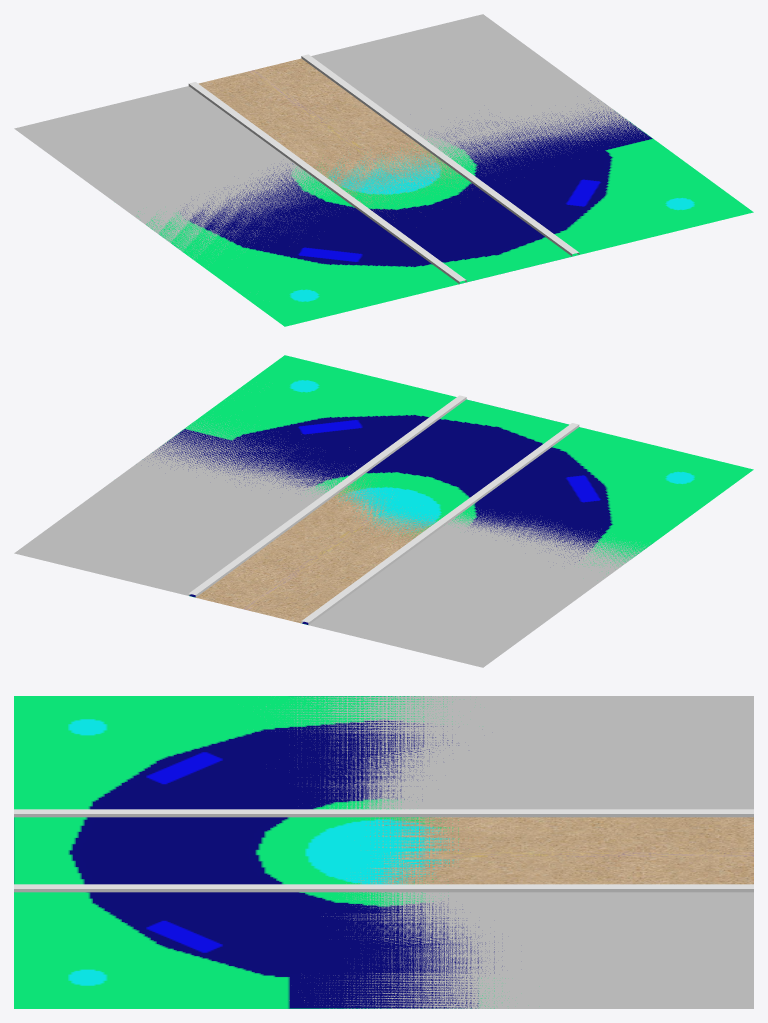
The model's file is Park_Straight_01.fbx.
The picture shows the model from 3 angles, top to bottom: view 1: azimuth 30°, elevation 25°; view 2: azimuth 150°, elevation 25°; view 3: azimuth 270°, elevation 25°; orthographic projection. The views are drawn at different scales.
Visible parts, largest first — view 1: _T_Park_StarightBG_01, HeightMap; view 2: _T_Park_StarightBG_01, HeightMap; view 3: _T_Park_StarightBG_01, HeightMap.
Part boxes in pixels (x1,y1,x2,y2): _T_Park_StarightBG_01: [14, 14, 647, 283]; HeightMap: [138, 100, 753, 326]; _T_Park_StarightBG_01: [14, 389, 646, 667]; HeightMap: [142, 355, 753, 624]; _T_Park_StarightBG_01: [14, 696, 753, 1008]; HeightMap: [14, 696, 508, 1008].
Bounding box in the file's own units: 2000 × 10 × 2000.
